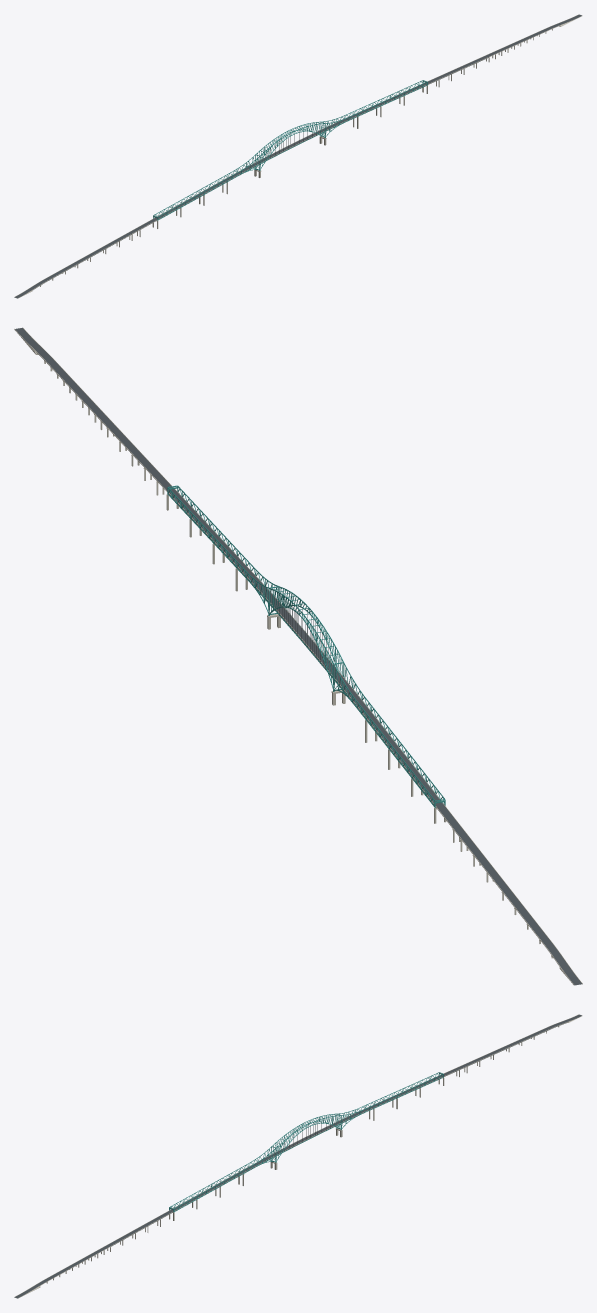
The model's file is pont-laviolette-far.glb.
The picture shows the model from 3 angles, top to bottom: view 1: azimuth 90°, elevation 25°; view 2: azimuth 150°, elevation 25°; view 3: azimuth 270°, elevation 25°; orthographic projection. The views are drawn at different scales.
Visible parts, largest first — view 1: pont-laviolette-0-steel, pont-laviolette-0-asphalt, pont-laviolette-0-concrete; view 2: pont-laviolette-0-asphalt, pont-laviolette-0-steel, pont-laviolette-0-concrete; view 3: pont-laviolette-0-steel, pont-laviolette-0-asphalt, pont-laviolette-0-concrete.
Part boxes in pixels (x1,y1,x2,y2): pont-laviolette-0-steel: (153,80,427,220); pont-laviolette-0-asphalt: (14,14,581,298); pont-laviolette-0-concrete: (14,14,582,298); pont-laviolette-0-asphalt: (15,328,581,985); pont-laviolette-0-steel: (167,485,445,808); pont-laviolette-0-concrete: (14,327,582,985); pont-laviolette-0-steel: (169,1072,443,1212); pont-laviolette-0-asphalt: (14,1014,581,1298); pont-laviolette-0-concrete: (14,1014,582,1298).
Size of the model in its own units: 2225 by 107 by 1882.
